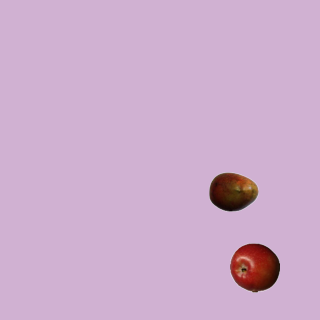Apple Braeburn: (229, 242, 279, 292)
Mango Red: (208, 166, 258, 216)
